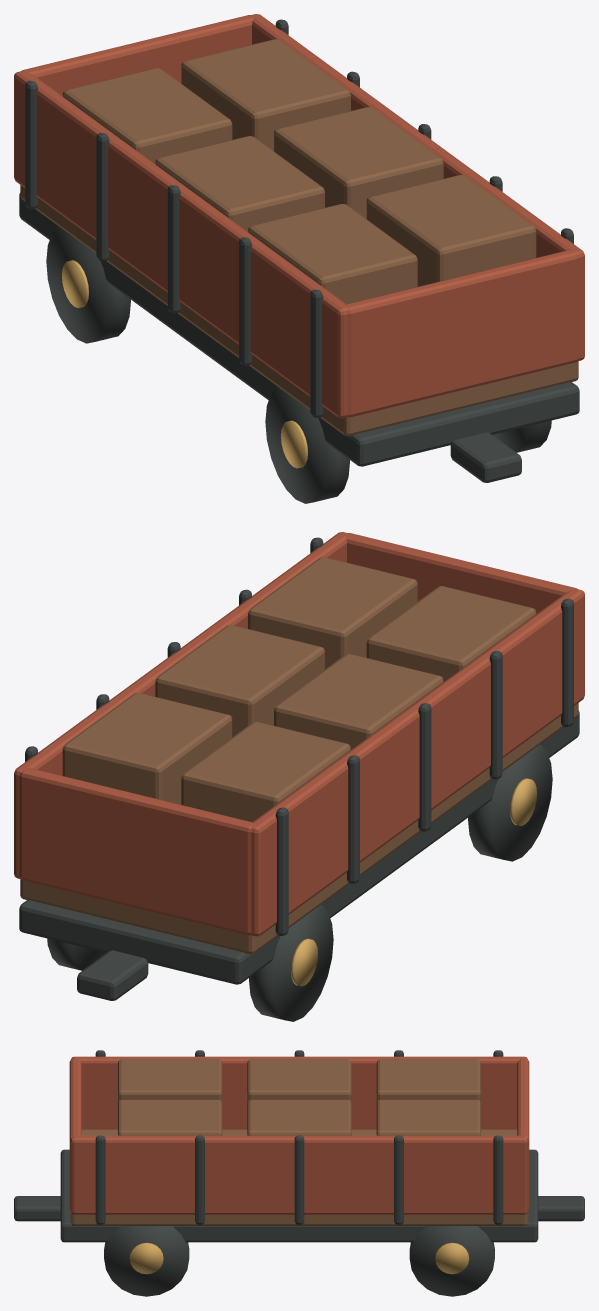
The model's file is freight.glb.
3 views of the same model, one above another, from view 1: azimuth 30°, elevation 25°; view 2: azimuth 150°, elevation 25°; view 3: azimuth 270°, elevation 25° (orthographic). The views are drawn at different scales.
Visible parts, largest first — view 1: freight_red, freight_wood, freight_iron, freight_brass; view 2: freight_red, freight_wood, freight_iron, freight_brass; view 3: freight_red, freight_wood, freight_iron, freight_brass.
Part boxes in pixels (x1,y1,x2,y2): freight_red: (14,14,584,418); freight_wood: (20,39,578,436); freight_iron: (19,19,579,503); freight_brass: (62,260,307,468); freight_red: (14,532,584,936); freight_wood: (20,557,578,954); freight_iron: (19,537,579,1021); freight_brass: (291,778,536,986); freight_red: (69,1056,529,1214); freight_wood: (70,1059,528,1225); freight_iron: (14,1050,584,1296); freight_brass: (129,1242,469,1274).
Bounding box in the file's own units: 2.11 × 1.83 × 5.74.
